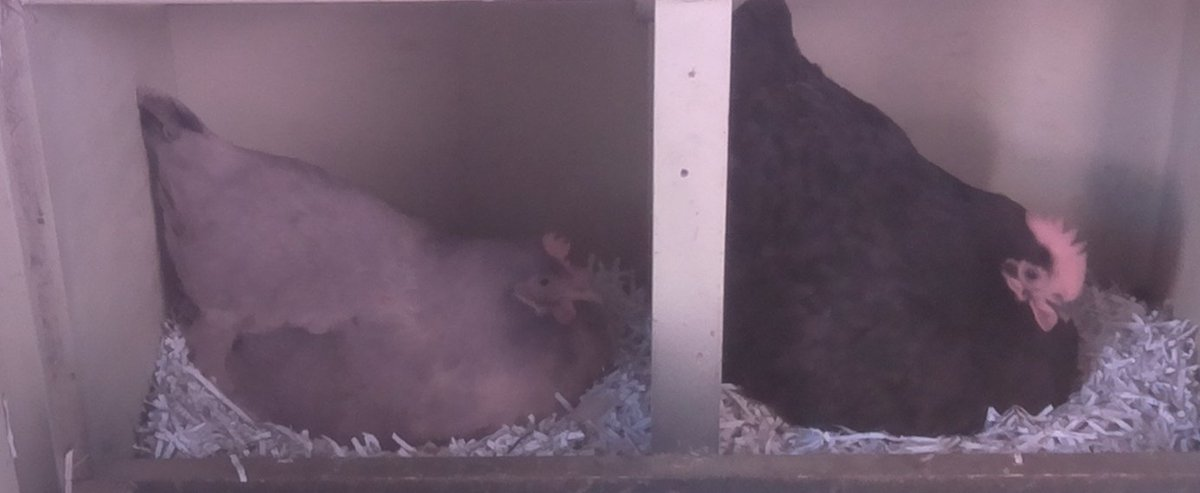hen: (136, 100, 624, 451), (733, 24, 1092, 426)
